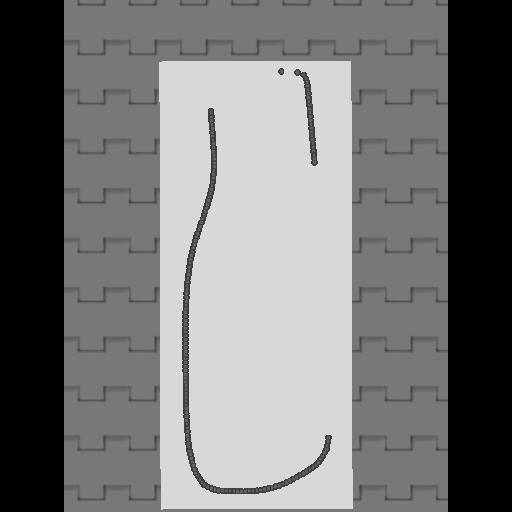Defect: (306, 164, 335, 436)
